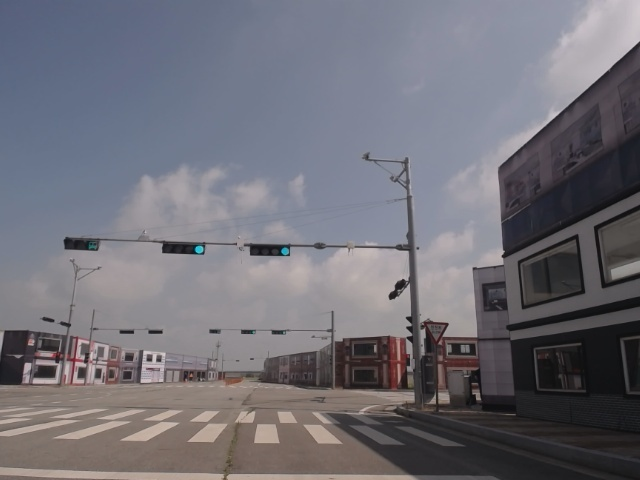straight_green_4: (161, 240, 205, 254), (249, 243, 290, 256)
